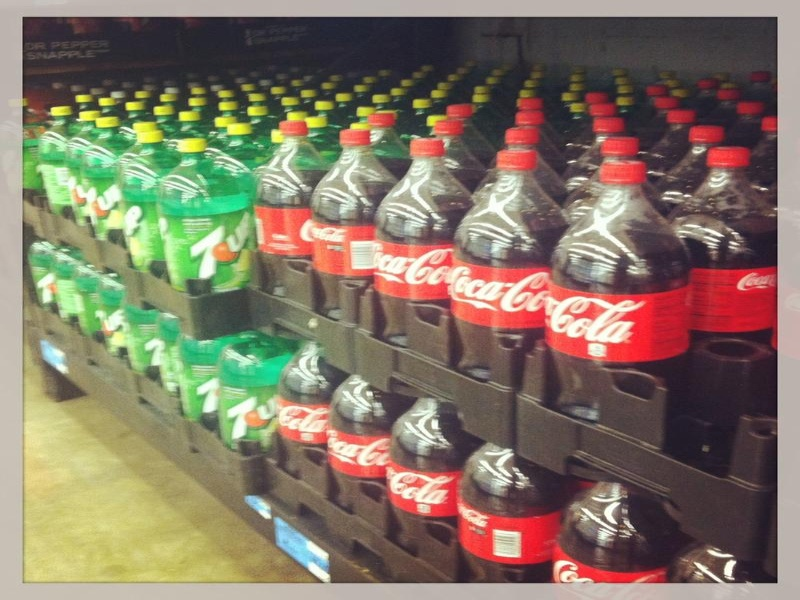Plastic bottle: (534, 161, 694, 425), (439, 137, 576, 397), (362, 121, 464, 344), (291, 123, 395, 339), (240, 104, 335, 291)
